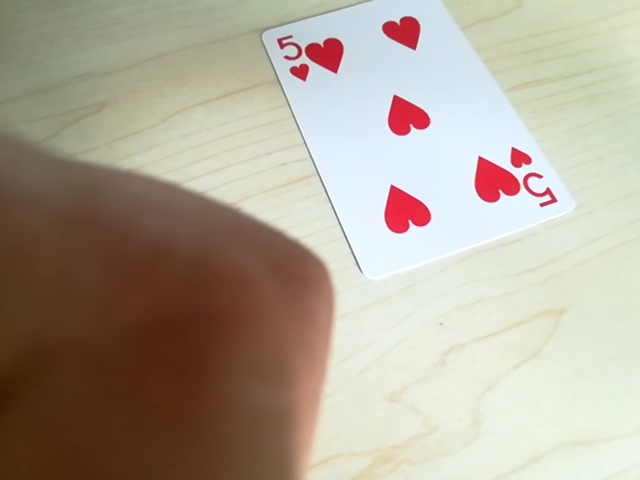hx 5: (508, 148, 558, 214), (273, 26, 326, 85)
